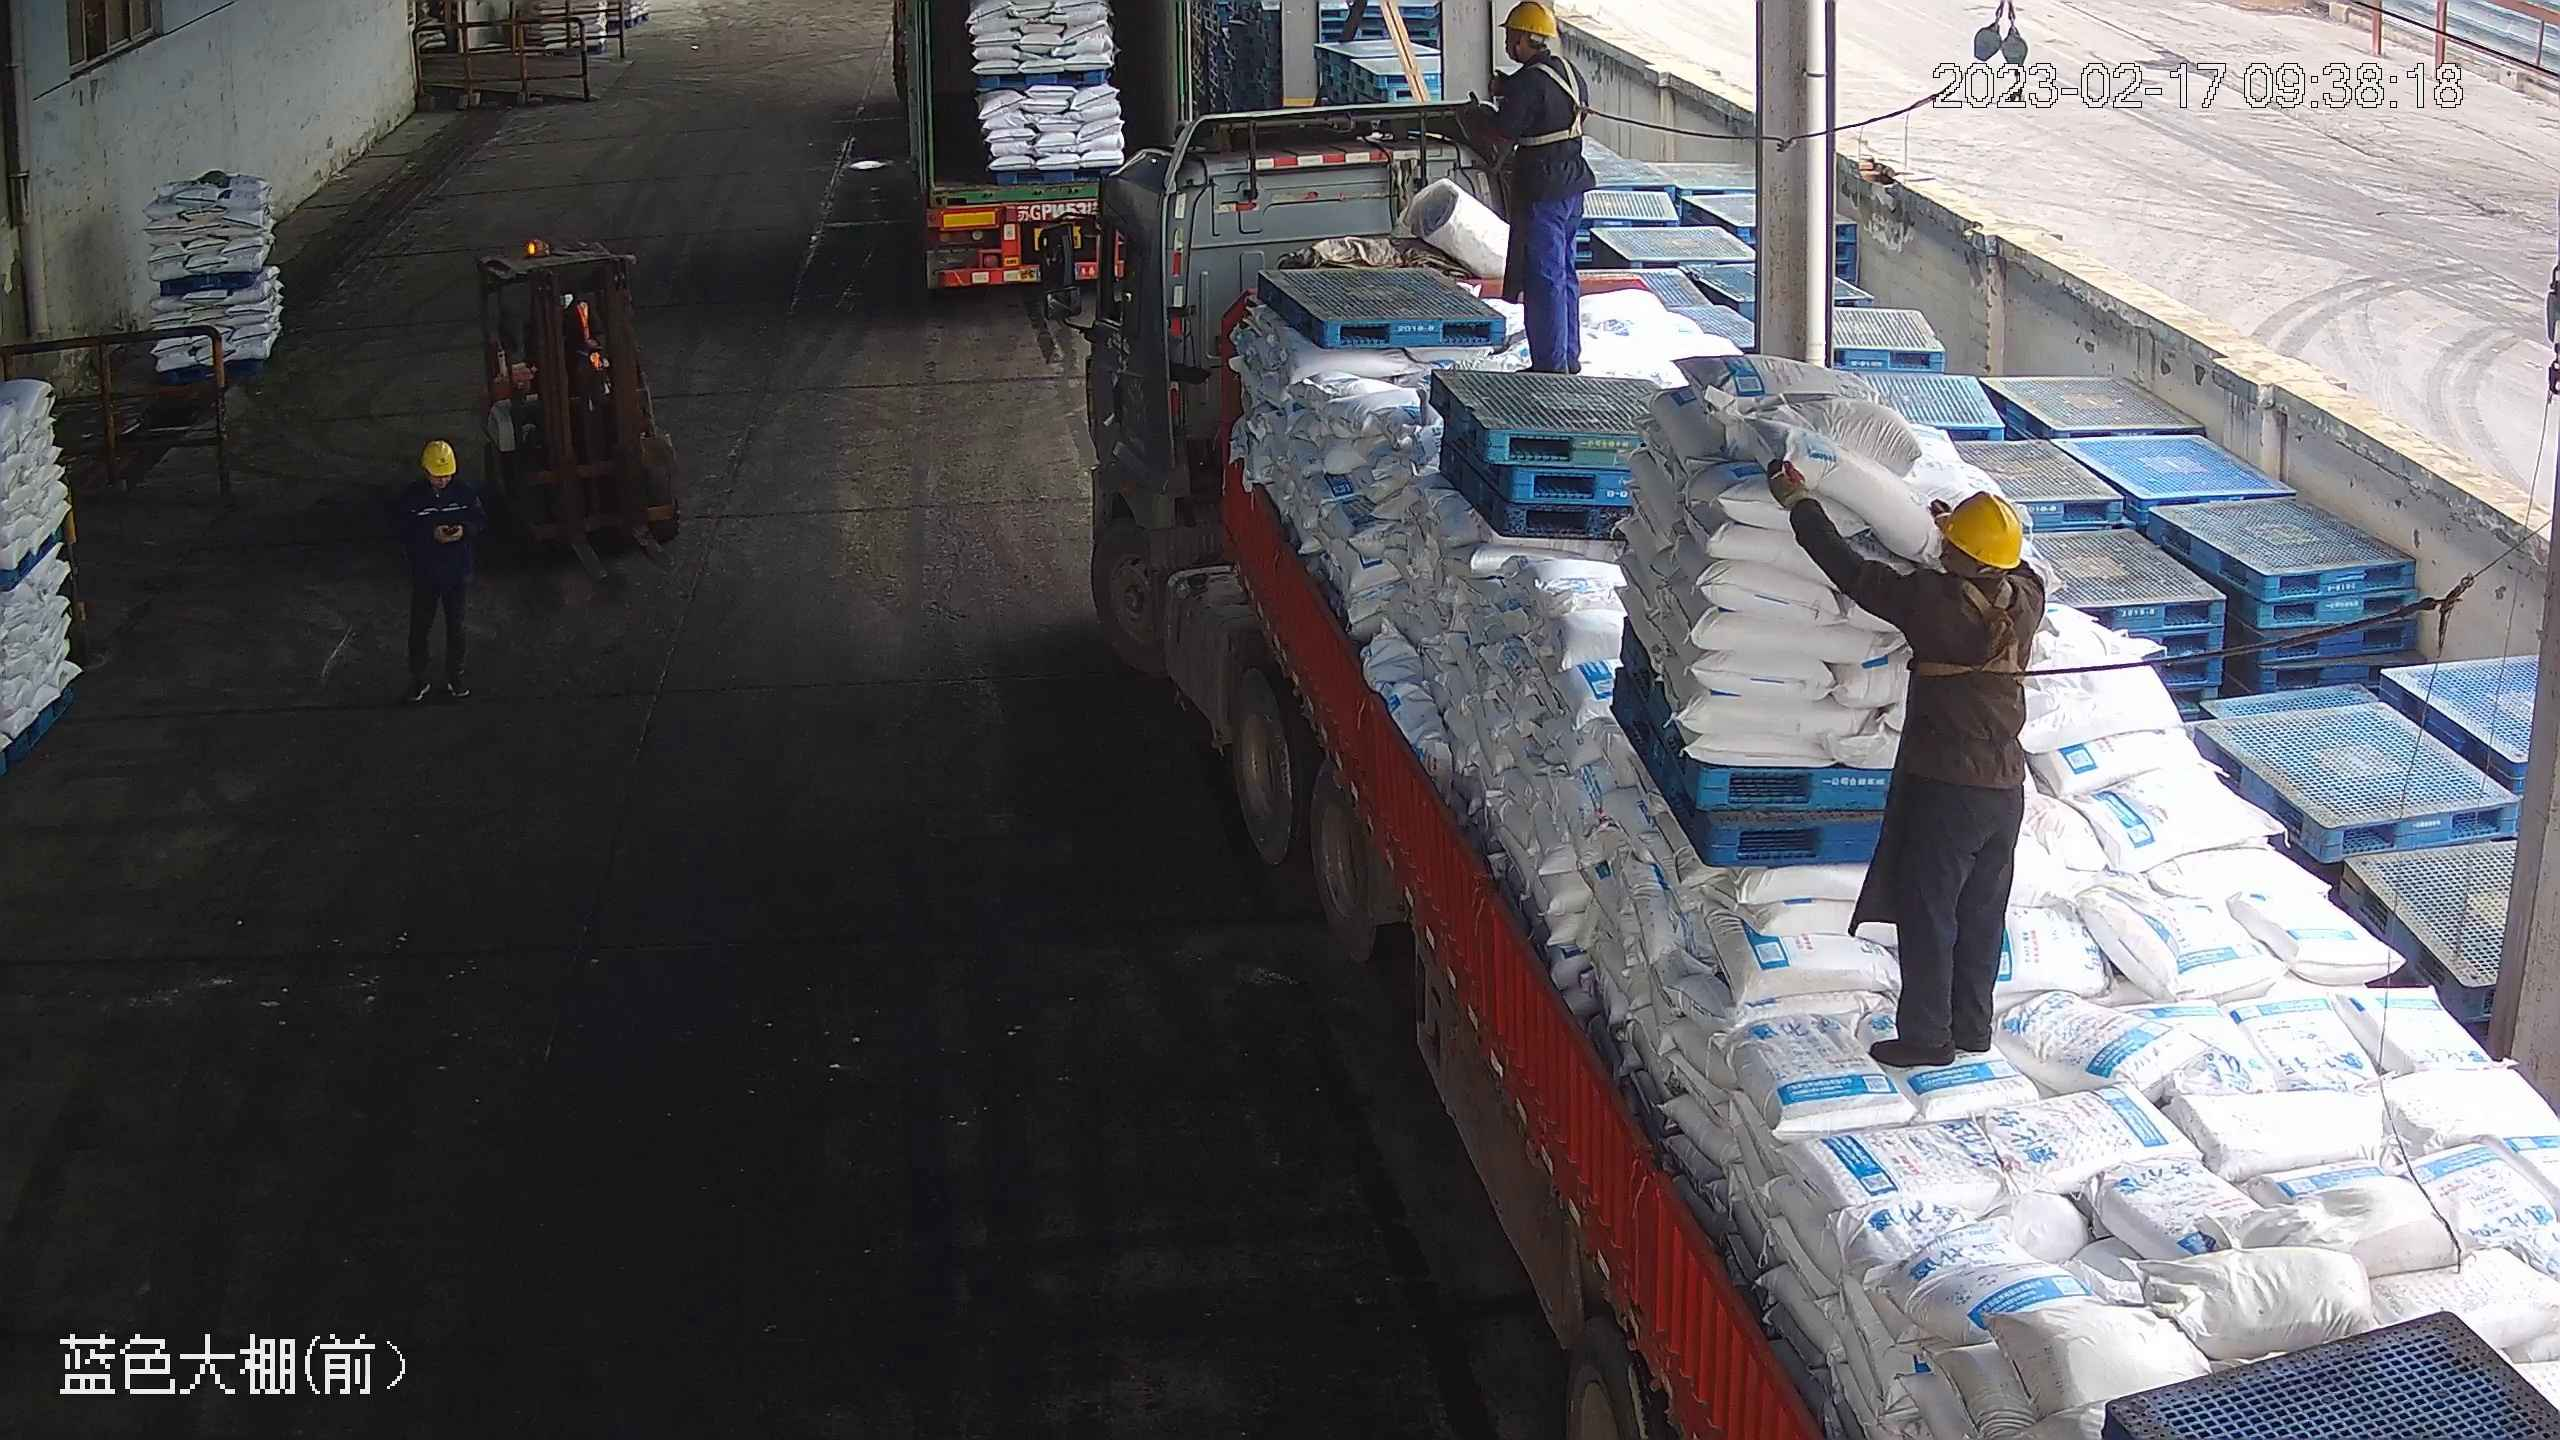belt: (1920, 572, 2042, 681), (1512, 56, 1593, 150)
head: (1890, 487, 2039, 649), (1488, 2, 1591, 104), (396, 436, 484, 530)
helmet: (1932, 488, 2028, 570), (1501, 1, 1558, 41), (419, 437, 458, 477)
people: (1776, 462, 2044, 1066), (1468, 1, 1598, 372), (396, 436, 485, 702)
truck: (1036, 98, 2553, 1433), (890, 1, 1187, 292)
